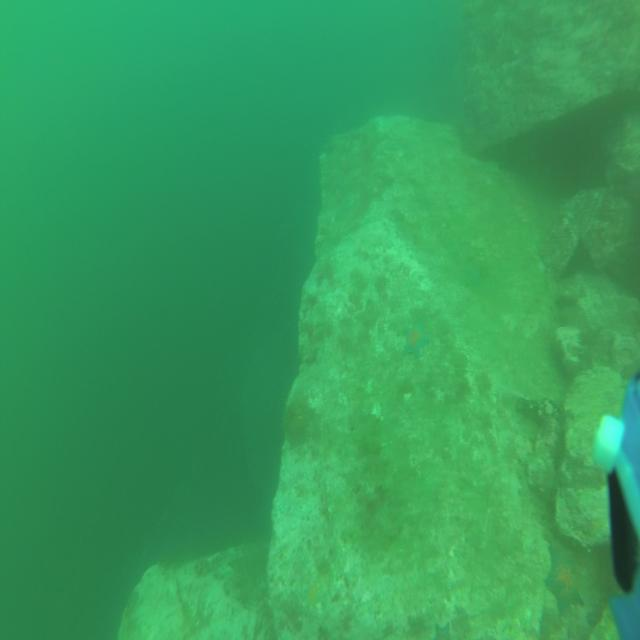echinus: (280, 390, 316, 453)
starfish: (543, 541, 586, 620), (402, 317, 429, 363), (302, 577, 323, 613)
